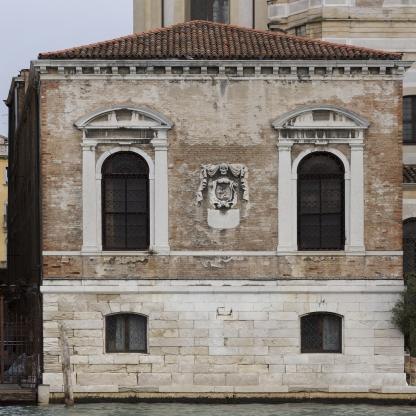Building Outline: (3, 20, 416, 403)
Cornice: (270, 104, 370, 143), (74, 104, 174, 143), (88, 303, 164, 316), (283, 303, 359, 316)
Deco: (196, 163, 249, 229)
Facade: (30, 20, 415, 403)
Floor Slab: (43, 277, 404, 286)
Ground Floor: (43, 286, 404, 403)
Molding: (30, 59, 416, 81)
Roof: (37, 20, 404, 60)
Top Floor: (43, 80, 404, 278)
Window: (297, 151, 346, 251), (101, 151, 150, 251), (298, 311, 345, 355), (102, 312, 149, 355)
